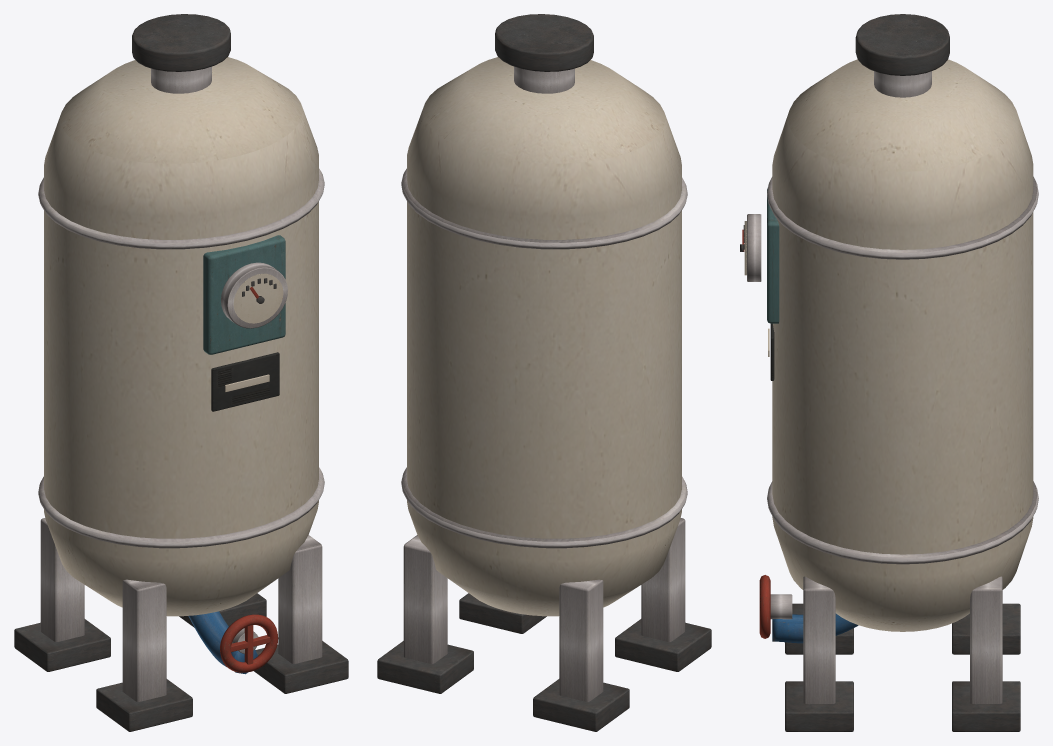
Rendered from SM_FacilityRooms_PressureTank.fbx.
3 renders of one model, left to right at view 1: azimuth 30°, elevation 25°; view 2: azimuth 150°, elevation 25°; view 3: azimuth 270°, elevation 25°, orthographic.
Visible parts, largest first — view 1: SM_FacilityRooms_PressureTank; view 2: SM_FacilityRooms_PressureTank; view 3: SM_FacilityRooms_PressureTank.
Part boxes in pixels (x1,y1,x2,y2): SM_FacilityRooms_PressureTank: (14, 14, 348, 731); SM_FacilityRooms_PressureTank: (377, 14, 711, 731); SM_FacilityRooms_PressureTank: (740, 14, 1038, 731).
Size of what is drawn, in the model's own units: 80 by 80 by 190.
